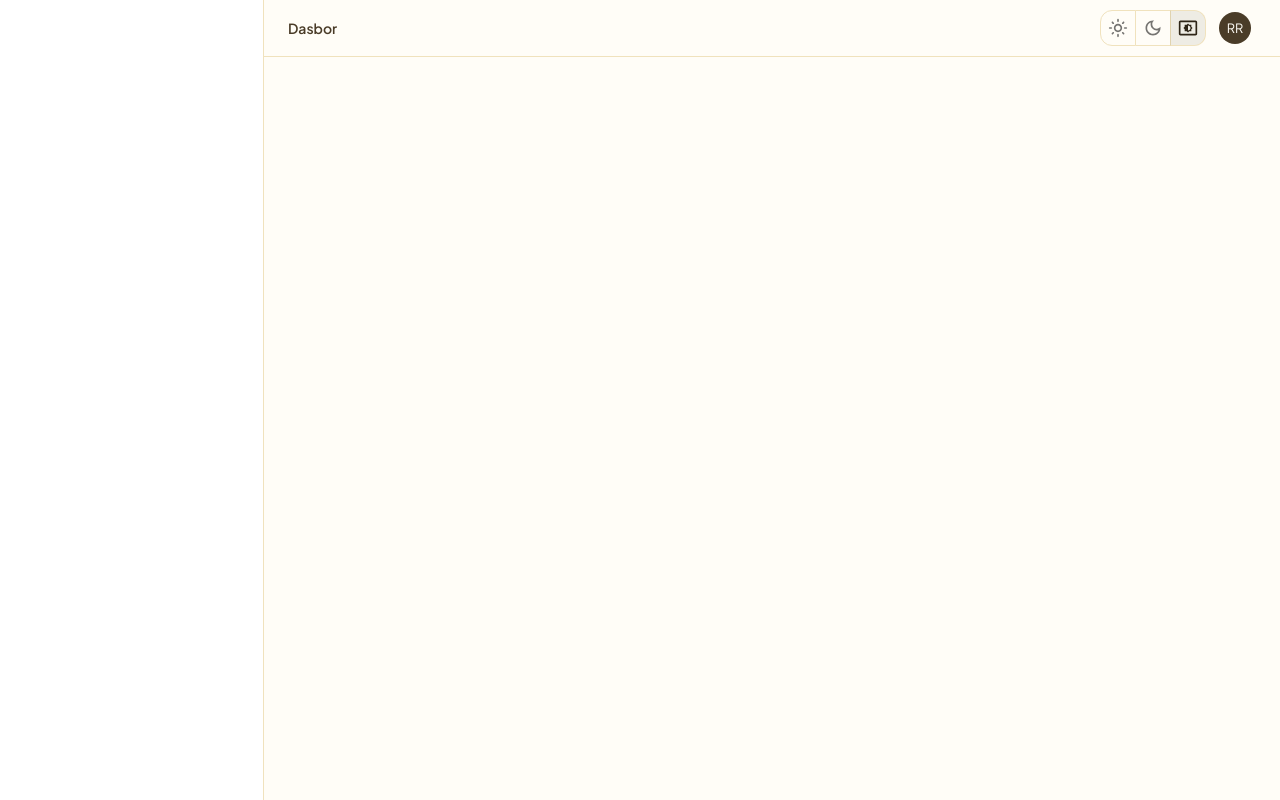
Test: kerangka admin › menu pengguna di bilah atas (spec MUI 4): nama, peran, email, dan Keluar
Click the button with aria-label "Menu pengguna Rina Resepsionis": [1235, 28] box 1214,7 -> 1256,49
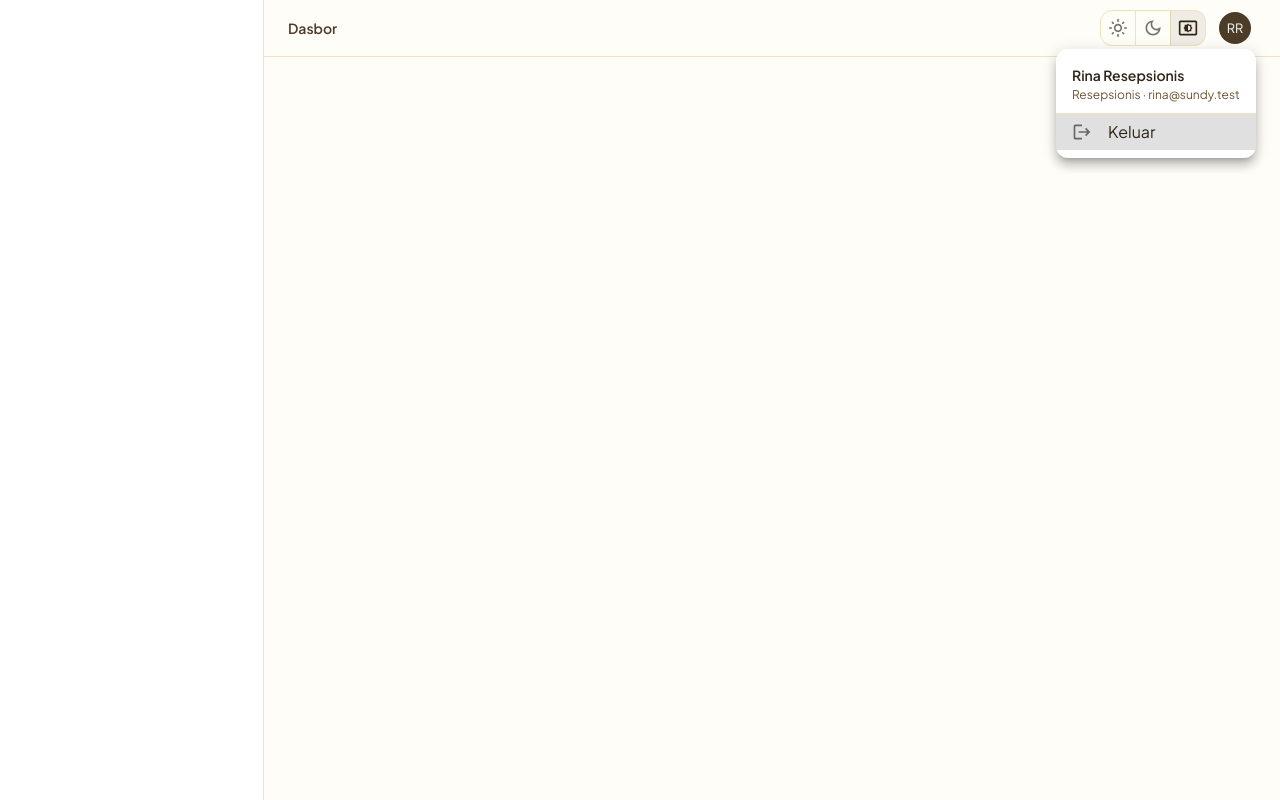
Expected: the menu shows "Rina Resepsionis", 1072,66 -> 1184,84
Expected: the menu shows "Resepsionis · rina@sundy.test", 1056,49 -> 1256,158
Expected: the menu item "Keluar" is shown, 1056,114 -> 1256,150
